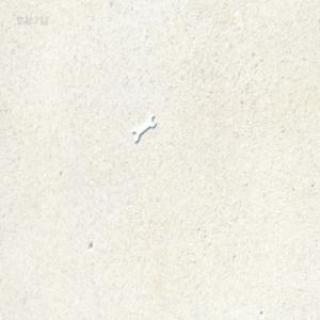Wrenchtrack_idkeyframe: (130, 113, 154, 143)
